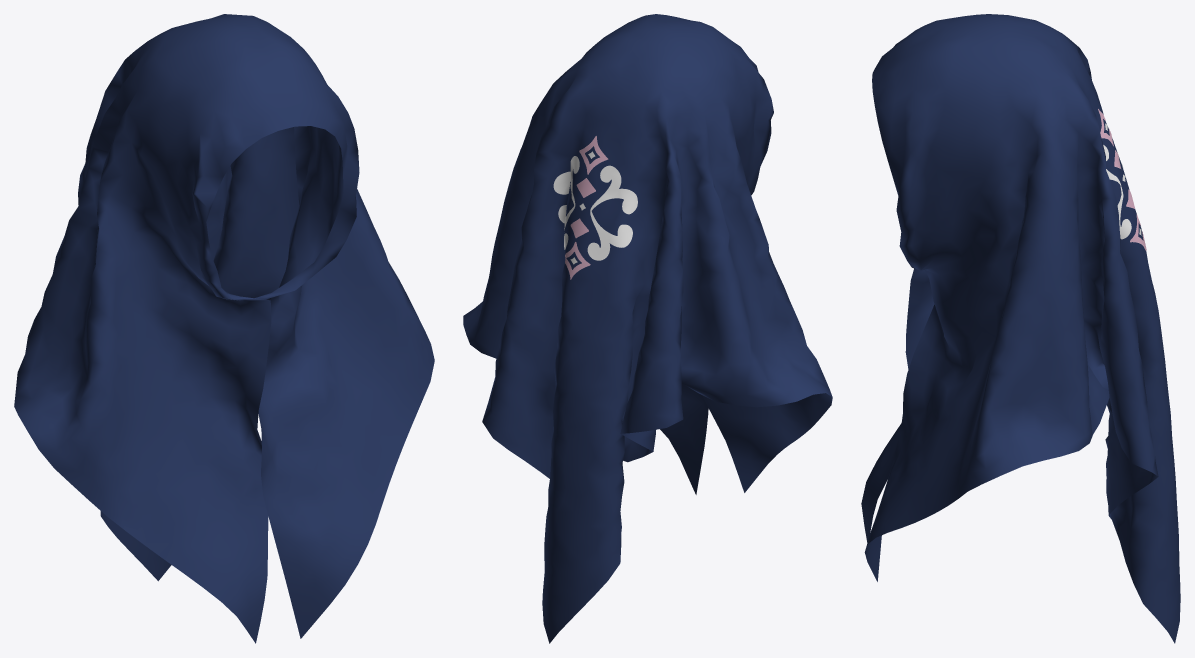
The model's file is Jilbab 3D.glb.
3 views of the same model, side by side, from view 1: azimuth 30°, elevation 25°; view 2: azimuth 150°, elevation 25°; view 3: azimuth 270°, elevation 25° (orthographic). The views are drawn at different scales.
Visible parts, largest first — view 1: Pattern2D_3574_Node; view 2: Pattern2D_3574_Node, MatShape_2871_Node; view 3: Pattern2D_3574_Node, MatShape_2871_Node.
Part boxes in pixels (<box>): Pattern2D_3574_Node: <box>14,14,434,643</box>; Pattern2D_3574_Node: <box>463,14,832,643</box>; MatShape_2871_Node: <box>553,136,637,279</box>; Pattern2D_3574_Node: <box>861,14,1180,643</box>; MatShape_2871_Node: <box>1098,109,1146,250</box>.
Bounding box in the file's own units: 0.3841 × 0.5765 × 0.2737.
Materials: 2 (1 with a texture image).
